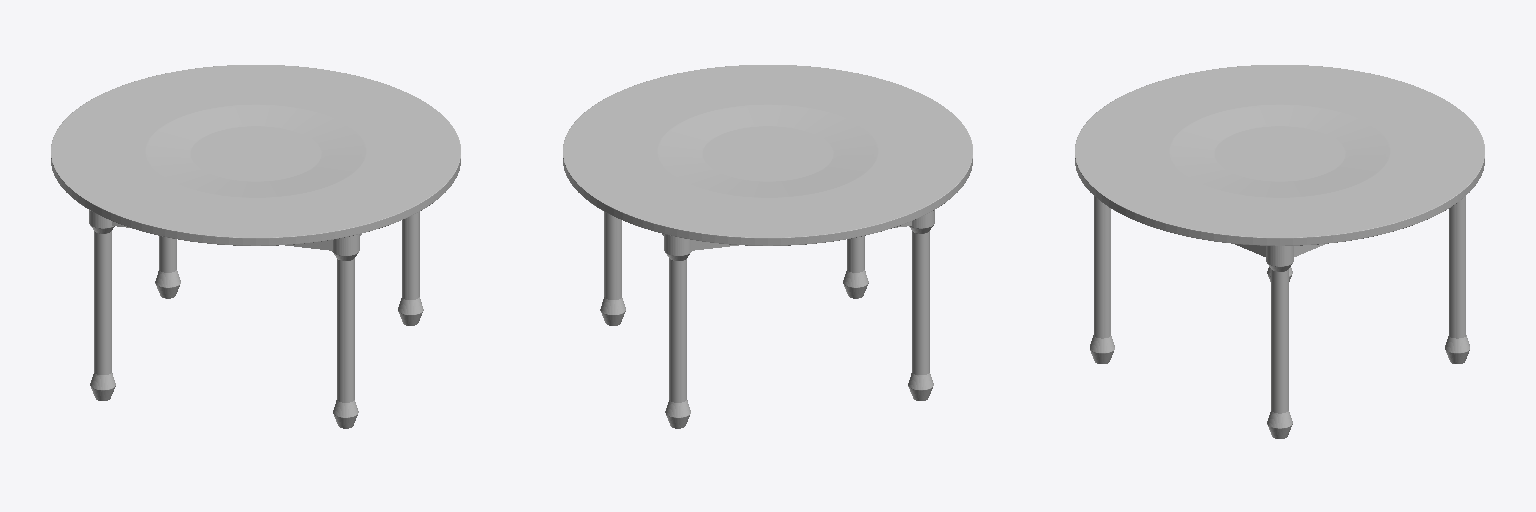
The picture shows the model from 3 angles: view 1: azimuth 30°, elevation 25°; view 2: azimuth 150°, elevation 25°; view 3: azimuth 270°, elevation 25°; orthographic projection.
Parts seen in each view (by area): view 1: Leg_Cylinder.001; view 2: Leg_Cylinder.001; view 3: Leg_Cylinder.001.
Boxes of the visible parts, x1=… form: Leg_Cylinder.001: x1=89, y1=210, x2=423, y2=428; Leg_Cylinder.001: x1=600, y1=210, x2=934, y2=428; Leg_Cylinder.001: x1=1090, y1=196, x2=1469, y2=438.
Size of the model in its own units: 2.59 by 1.46 by 2.59.